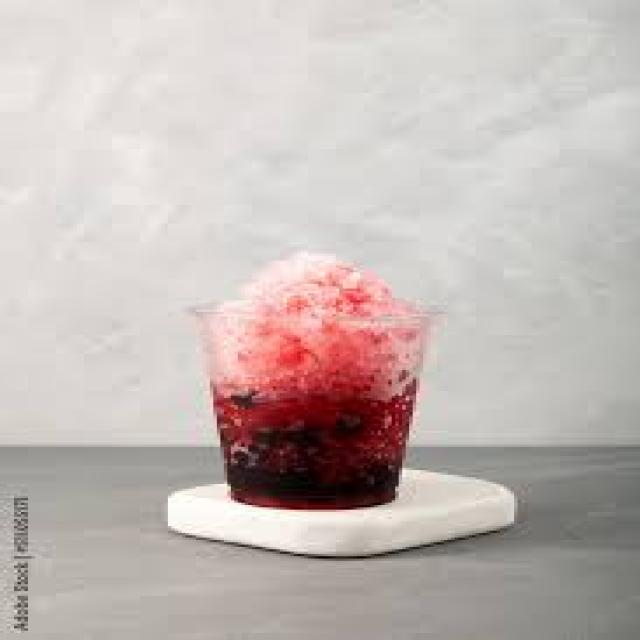bottle: (198, 311, 434, 512)
